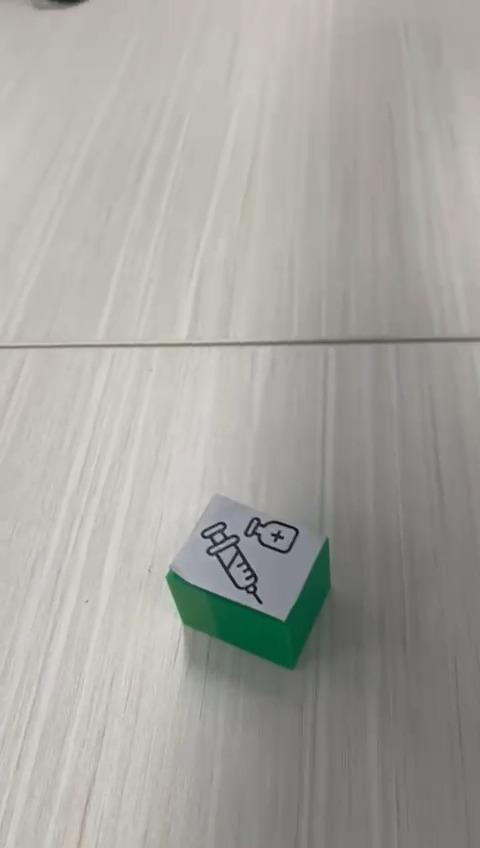antiseptic cream: (164, 491, 332, 669)
